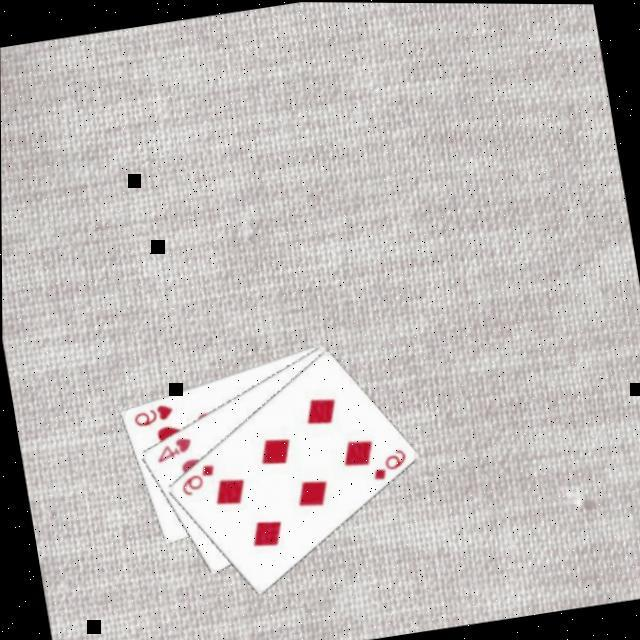4H: (148, 433, 194, 468)
6D: (172, 460, 219, 500), (363, 445, 409, 485)
9H: (128, 401, 174, 432)
